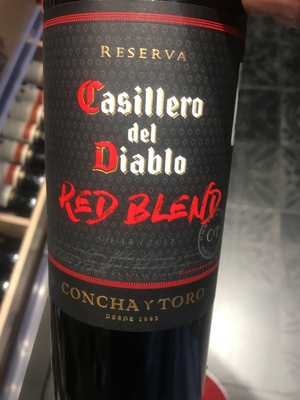casillero del diablo red blend: (32, 10, 247, 400)
